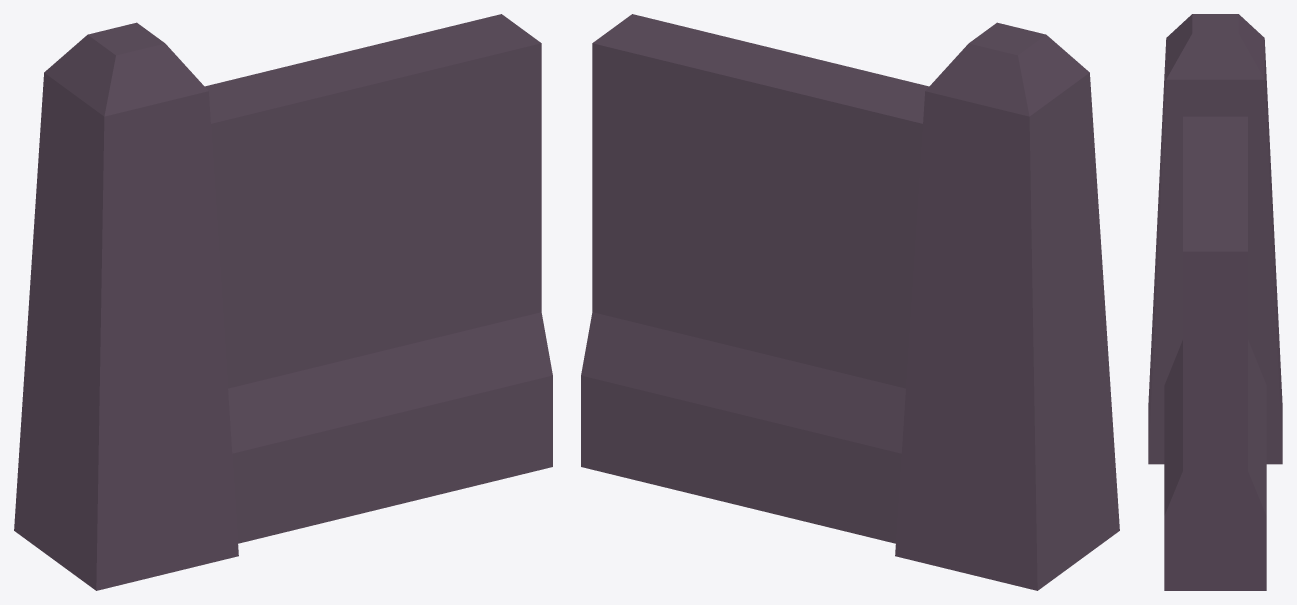
The model's file is Building7-WallEndModel.glb.
The picture shows the model from 3 angles, left to right: view 1: azimuth 30°, elevation 25°; view 2: azimuth 150°, elevation 25°; view 3: azimuth 270°, elevation 25°; orthographic projection. The views are drawn at different scales.
Parts seen in each view (by area): view 1: Cube.003; view 2: Cube.003; view 3: Cube.003.
Part boxes in pixels (x1,y1,x2,y2): Cube.003: (14,14,552,590); Cube.003: (581,14,1119,590); Cube.003: (1148,14,1282,590).
Size of the model in its own units: 4.13 by 4.27 by 1.26.
1 material, 1 textured.
